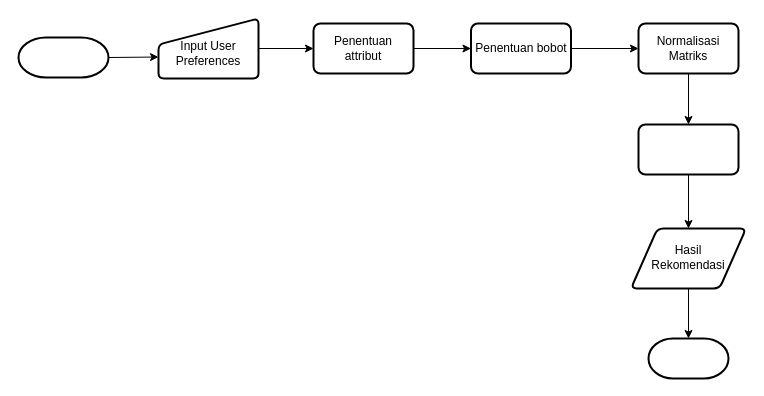
Image size: 764x396. Some labels were removed from this diagram. The centre of each missing label's shape, as x and y in pixels:
"End" belongs at (x=688, y=358).
"Sorting hasil normalisasi" belongs at (x=688, y=149).
"Start" belongs at (x=63, y=57).
